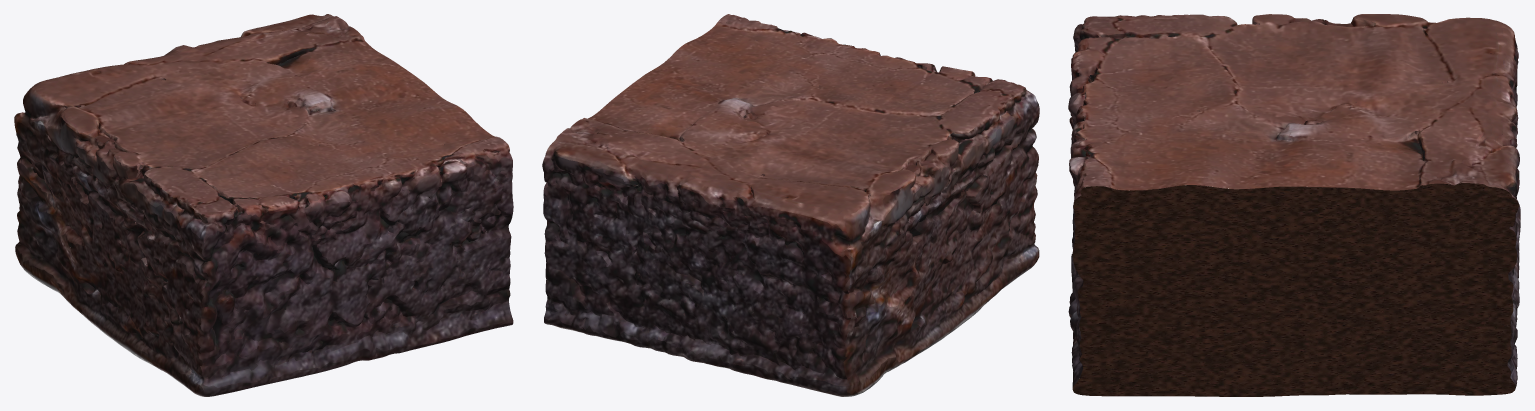
3 views of the same model, side by side, from view 1: azimuth 30°, elevation 25°; view 2: azimuth 150°, elevation 25°; view 3: azimuth 270°, elevation 25° (orthographic). The views are drawn at different scales.
Visible parts, largest first — view 1: brownie-physical-calibration-80x35x65mm; view 2: brownie-physical-calibration-80x35x65mm; view 3: brownie-physical-calibration-80x35x65mm.
Part boxes in pixels (bbox=[...]): brownie-physical-calibration-80x35x65mm: bbox=[14, 14, 513, 396]; brownie-physical-calibration-80x35x65mm: bbox=[542, 14, 1039, 396]; brownie-physical-calibration-80x35x65mm: bbox=[1068, 14, 1520, 396].
Size of the model in its own units: 0.06 by 0.035 by 0.065.
Materials: 2 (2 with a texture image).
